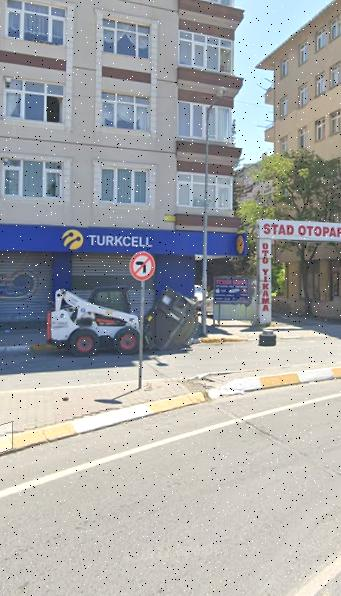leftturnsareforbidden: (129, 251, 156, 282)
